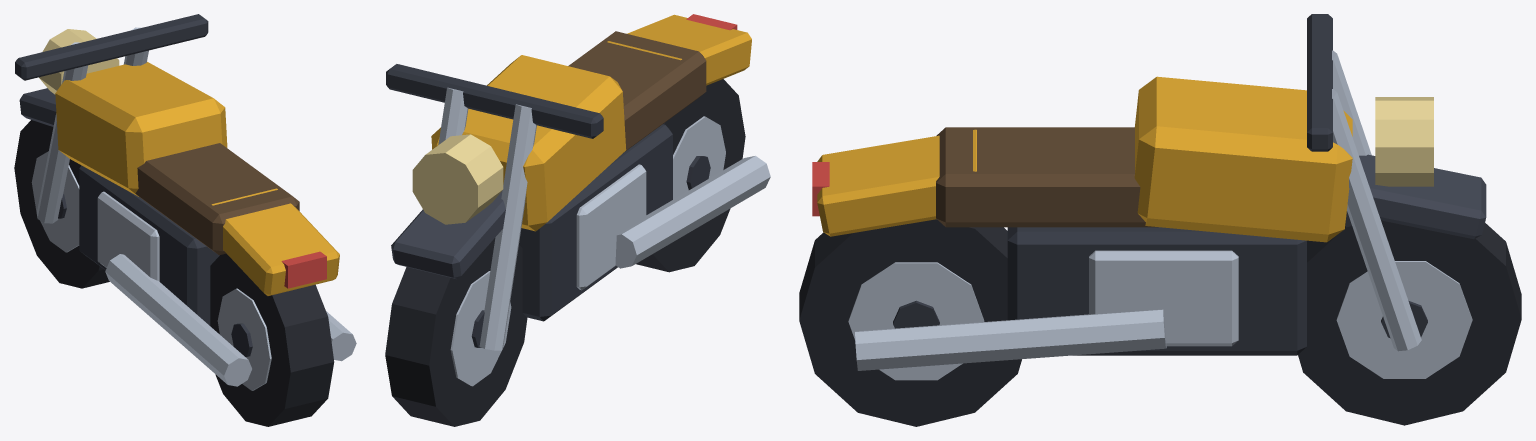
The model's file is Stylized_Apoc_Motorcycle_03_Abandoned_Dirt_Bike.fbx.
3 views of the same model, side by side, from view 1: azimuth 30°, elevation 25°; view 2: azimuth 150°, elevation 25°; view 3: azimuth 270°, elevation 25° (orthographic). The views are drawn at different scales.
Visible parts, largest first — view 1: Stylized_Apoc_Motorcycle_03_Abandoned_Dirt_Bike; view 2: Stylized_Apoc_Motorcycle_03_Abandoned_Dirt_Bike; view 3: Stylized_Apoc_Motorcycle_03_Abandoned_Dirt_Bike.
Part boxes in pixels (left/top/right/bottom): Stylized_Apoc_Motorcycle_03_Abandoned_Dirt_Bike: left=14, top=14, right=356, bottom=426; Stylized_Apoc_Motorcycle_03_Abandoned_Dirt_Bike: left=385, top=14, right=770, bottom=426; Stylized_Apoc_Motorcycle_03_Abandoned_Dirt_Bike: left=799, top=14, right=1521, bottom=426.
Size of the model in its own units: 0.86 by 1.16 by 2.22.
